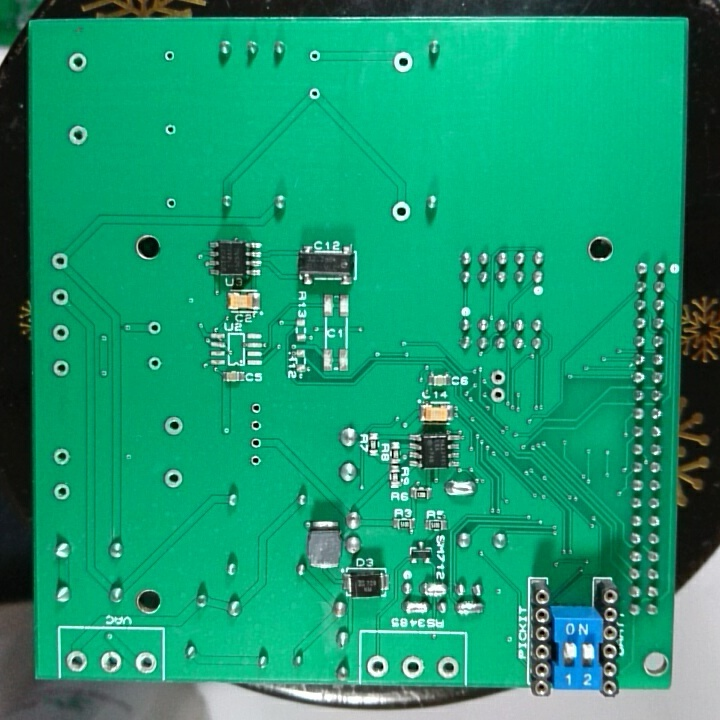F: (399, 652, 427, 682), (434, 652, 462, 681), (364, 652, 391, 680), (161, 411, 187, 440), (391, 47, 415, 76), (99, 648, 123, 676), (159, 466, 185, 491), (64, 649, 89, 675), (133, 649, 158, 675), (65, 123, 91, 147), (66, 49, 89, 76), (389, 198, 413, 223), (48, 284, 71, 309), (48, 249, 71, 273), (50, 321, 71, 346), (487, 384, 508, 406), (50, 358, 71, 380), (51, 480, 71, 503), (145, 353, 164, 375), (51, 447, 73, 466), (144, 318, 164, 338), (488, 368, 508, 386), (305, 84, 323, 104), (162, 193, 180, 213), (305, 46, 322, 66), (247, 451, 264, 469), (162, 121, 179, 138), (247, 435, 265, 451), (161, 46, 177, 63), (248, 400, 264, 417), (248, 418, 264, 433)
P: (443, 476, 477, 498), (452, 598, 486, 618), (419, 578, 451, 598), (401, 597, 432, 617)
